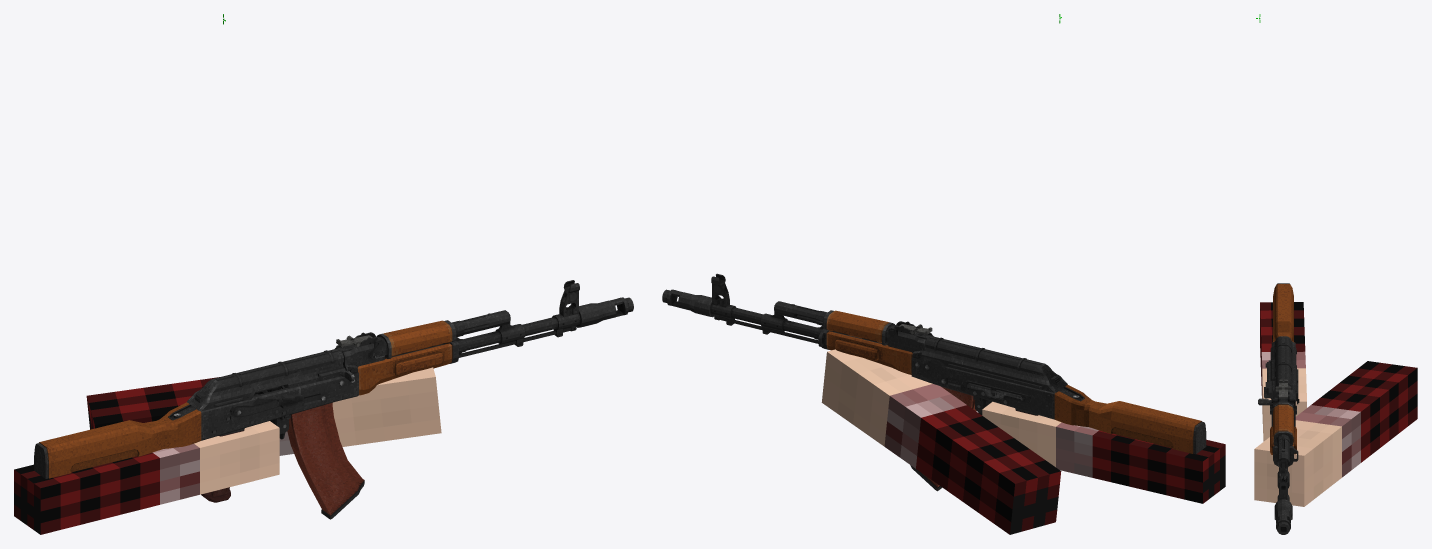
Rendered from proto.ak74.glb.
The picture shows the model from 3 angles, left to right: view 1: azimuth 30°, elevation 25°; view 2: azimuth 150°, elevation 25°; view 3: azimuth 270°, elevation 25°; orthographic projection. The views are drawn at different scales.
Visible parts, largest first — view 1: rightArm, leftArm, body, stock, ammo, receiver_back, forearm, receiver_front, compensator, pipe, slide; view 2: leftArm, rightArm, body, stock, receiver_back, forearm, receiver_front, compensator, pipe; view 3: leftArm, rightArm, body, receiver_back, stock, receiver_front, compensator, pipe, sight.
Part boxes in pixels (bbox=[...]): rightArm: bbox=[14, 421, 279, 534]; leftArm: bbox=[86, 367, 441, 455]; body: bbox=[168, 280, 581, 440]; stock: bbox=[34, 402, 201, 478]; ammo: bbox=[287, 402, 364, 519]; receiver_back: bbox=[187, 348, 343, 411]; forearm: bbox=[358, 343, 452, 395]; receiver_front: bbox=[383, 320, 452, 356]; compensator: bbox=[576, 297, 633, 327]; pipe: bbox=[377, 314, 491, 358]; slide: bbox=[281, 361, 354, 388]; leftArm: bbox=[821, 349, 1061, 534]; rightArm: bbox=[982, 401, 1225, 503]; body: bbox=[710, 273, 1084, 419]; stock: bbox=[1054, 385, 1206, 454]; receiver_back: bbox=[922, 336, 1067, 392]; forearm: bbox=[826, 331, 912, 374]; receiver_front: bbox=[826, 310, 889, 342]; compensator: bbox=[662, 289, 714, 317]; pipe: bbox=[791, 305, 894, 345]; leftArm: bbox=[1254, 361, 1417, 506]; rightArm: bbox=[1260, 302, 1306, 441]; body: bbox=[1264, 350, 1299, 500]; receiver_back: bbox=[1270, 336, 1296, 399]; stock: bbox=[1272, 283, 1294, 342]; receiver_front: bbox=[1273, 404, 1293, 442]; compensator: bbox=[1274, 499, 1292, 534]; pipe: bbox=[1273, 402, 1293, 453]; sight: bbox=[1275, 379, 1291, 398].
Bounding box in the file's own units: 11.7 × 10 × 3.23.
3 materials, 3 textured.
